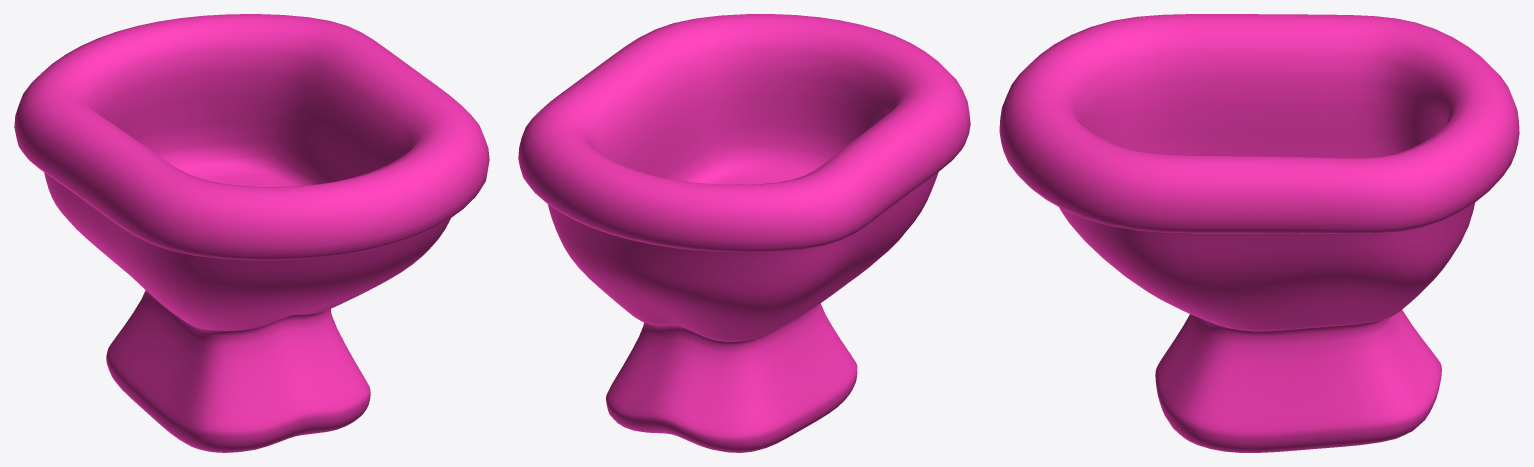
File: toiletbowl_fix.fbx
3 views of the same model, side by side, from view 1: azimuth 30°, elevation 25°; view 2: azimuth 150°, elevation 25°; view 3: azimuth 270°, elevation 25° (orthographic). The views are drawn at different scales.
Visible parts, largest first — view 1: Cube.087; view 2: Cube.087; view 3: Cube.087.
Part boxes in pixels (box(x1,y1,x2,y2)): Cube.087: box(14, 14, 489, 452); Cube.087: box(518, 14, 970, 452); Cube.087: box(999, 14, 1519, 452).
Size of the model in its own units: 103 by 89.53 by 128.
